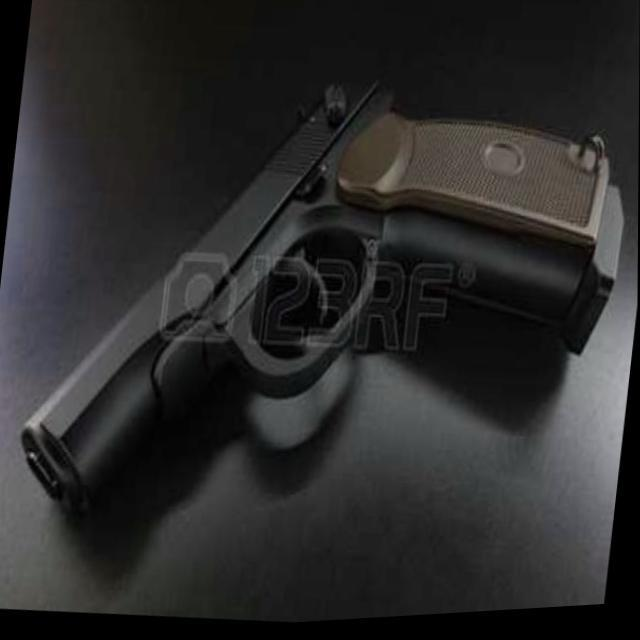weapon: (9, 32, 638, 580)
